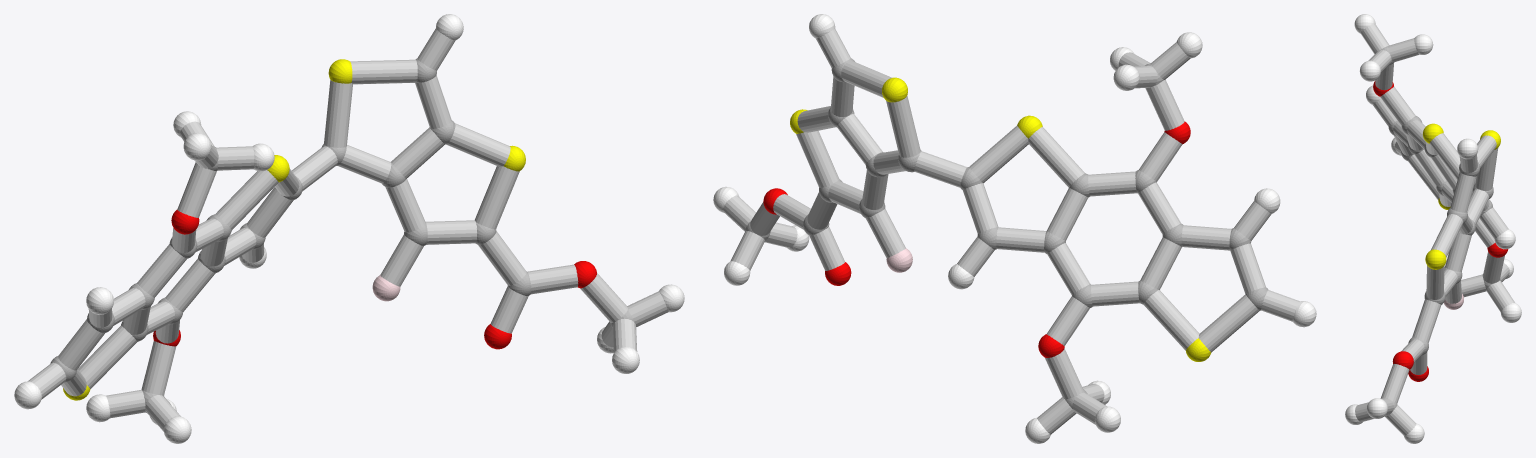
File: color.glb
3 renders of one model, left to right at view 1: azimuth 30°, elevation 25°; view 2: azimuth 150°, elevation 25°; view 3: azimuth 270°, elevation 25°, orthographic. The views are drawn at different scales.
Visible parts, largest first — view 1: grp15205, grp8689, grp1, grp13395, grp7241; view 2: grp15205, grp8689, grp1, grp13395, grp7241; view 3: grp15205, grp8689, grp1, grp7241, grp13395.
Part boxes in pixels (box(x1,y1,x2,y2)): grp15205: box(27, 28, 668, 431); grp8689: box(14, 14, 684, 443); grp1: box(50, 58, 633, 412); grp13395: box(153, 210, 596, 349); grp7241: box(63, 59, 525, 400); grp15205: box(723, 28, 1299, 434); grp8689: box(713, 14, 1316, 443); grp1: box(745, 58, 1268, 408); grp13395: box(763, 121, 1190, 357); grp7241: box(790, 77, 1211, 361); grp15205: box(1355, 24, 1514, 435); grp8689: box(1345, 14, 1521, 443); grp1: box(1380, 46, 1500, 416); grp7241: box(1422, 123, 1500, 269); grp13395: box(1373, 81, 1508, 381).
Size of the model in its own units: 16.11 by 8.92 by 5.03.
